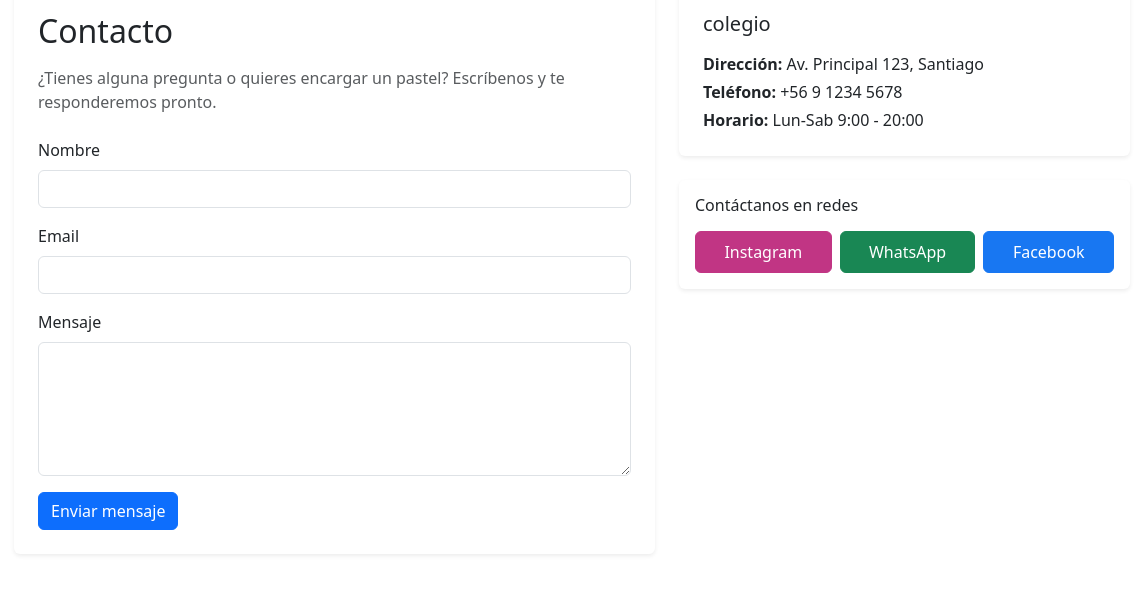
Scenario: Contacto page › debe validar que el mensaje tenga al menos 10 caracteres
Type "Juan Pérez" into the field labelled "Nombre".
click(334, 189); type("Juan Pérez")  # box [38,170,631,208]
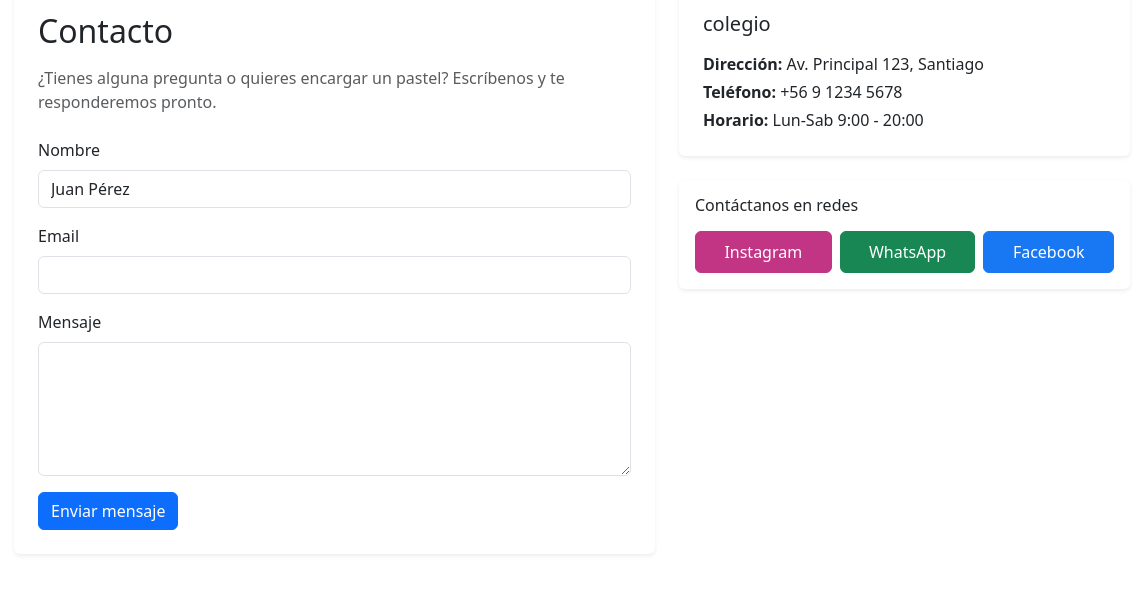
Type "juan@example.com" into the field labelled "Email".
click(334, 275); type("juan@example.com")  # box [38,256,631,294]
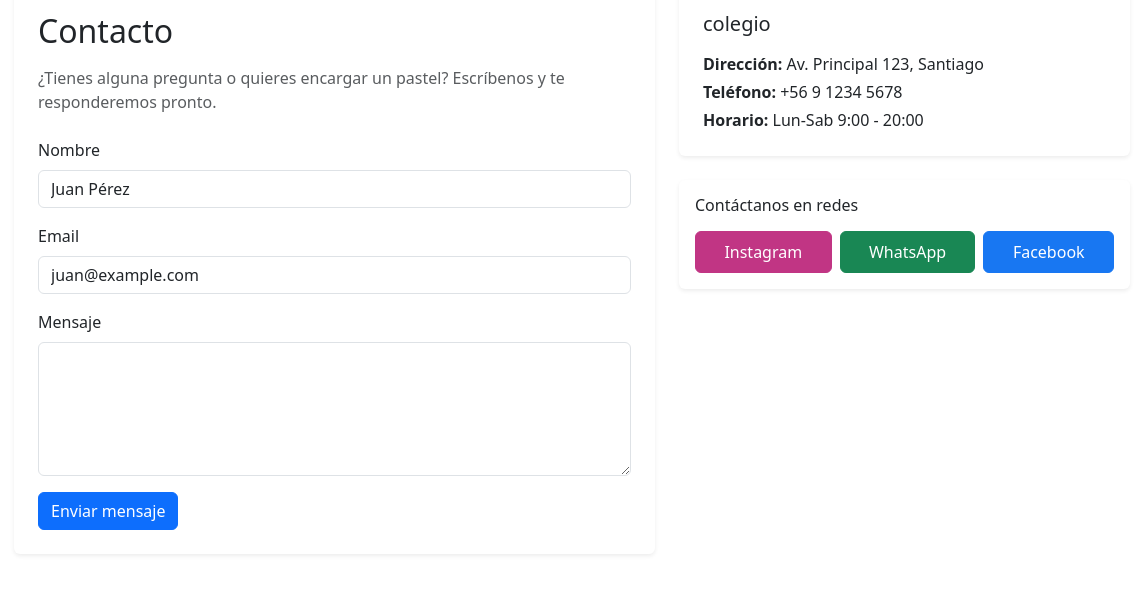
Type "Hola" into the text box labelled "Mensaje".
click(334, 409); type("Hola")  # box [38,342,631,476]
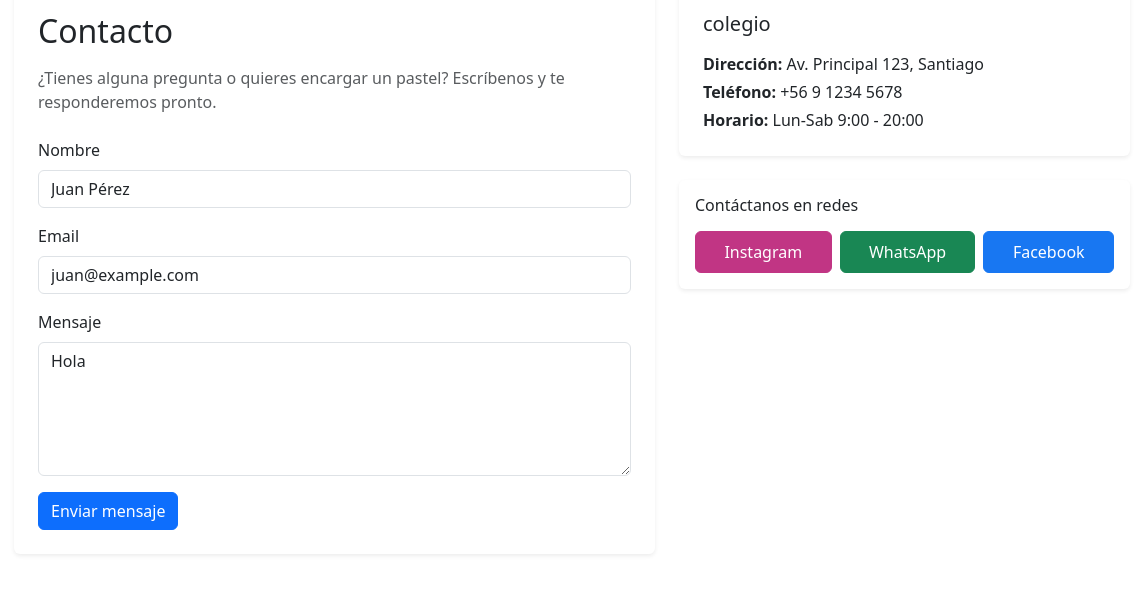
Click the button "Enviar mensaje".
click(108, 511)  # box [38,492,178,530]
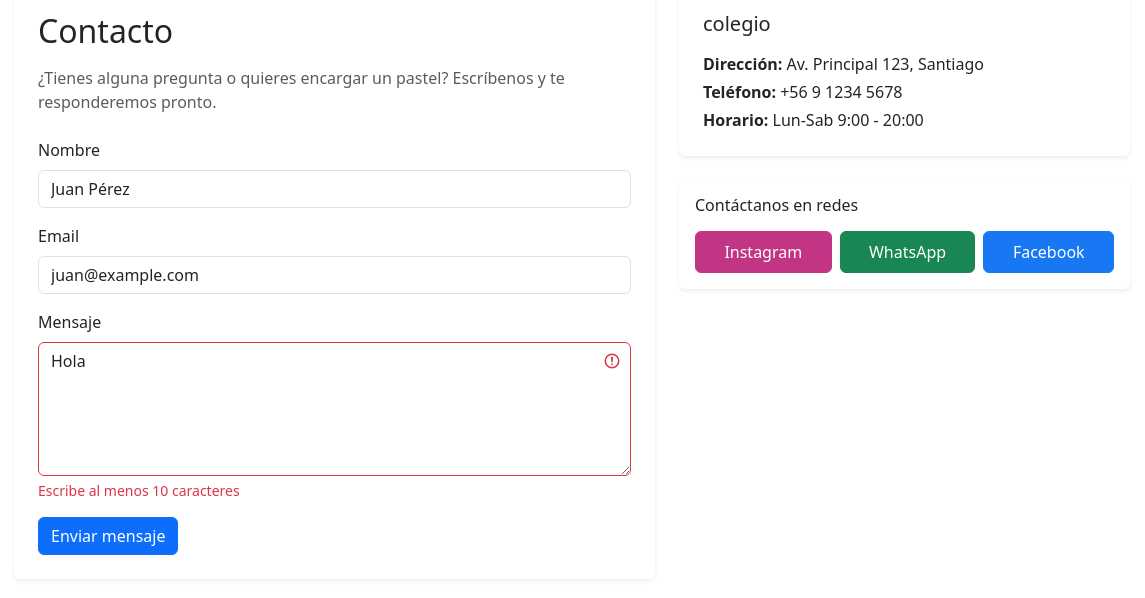
Now the text "Escribe al menos 10 caracteres" is shown, box [38,481,240,500]
